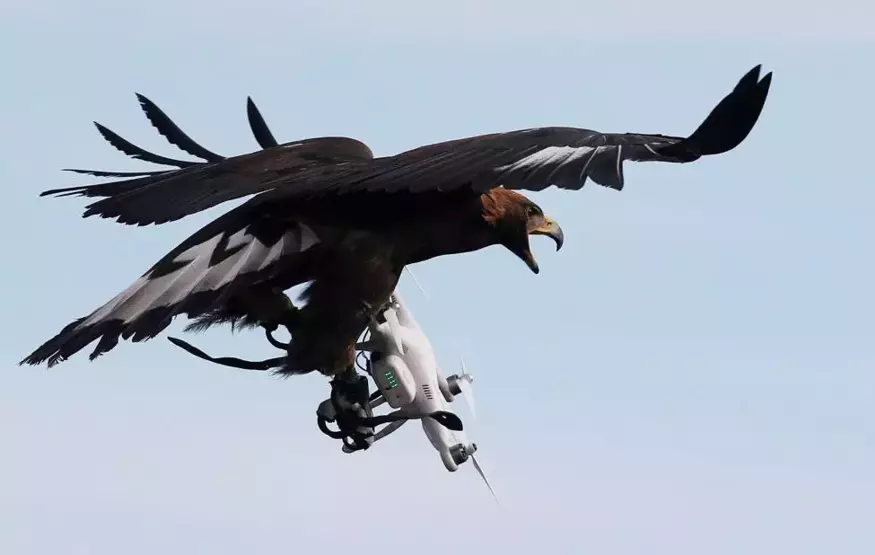Bird: (26, 53, 775, 426)
UAV: (343, 259, 504, 507)
